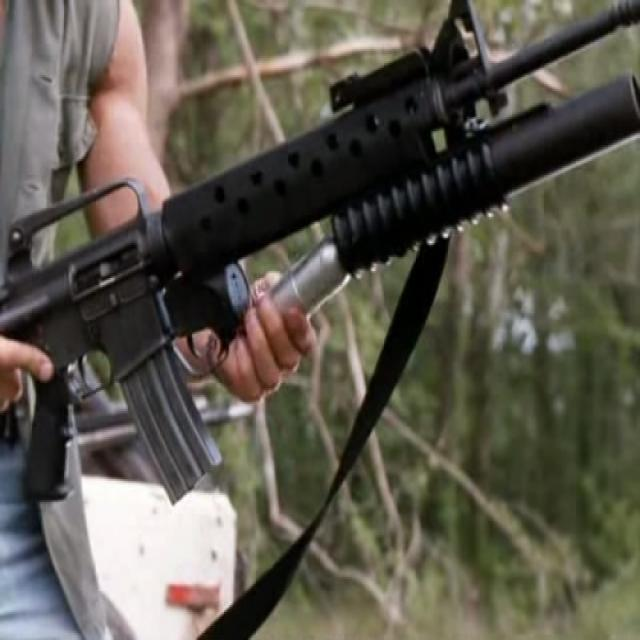rifle: (1, 1, 640, 517)
